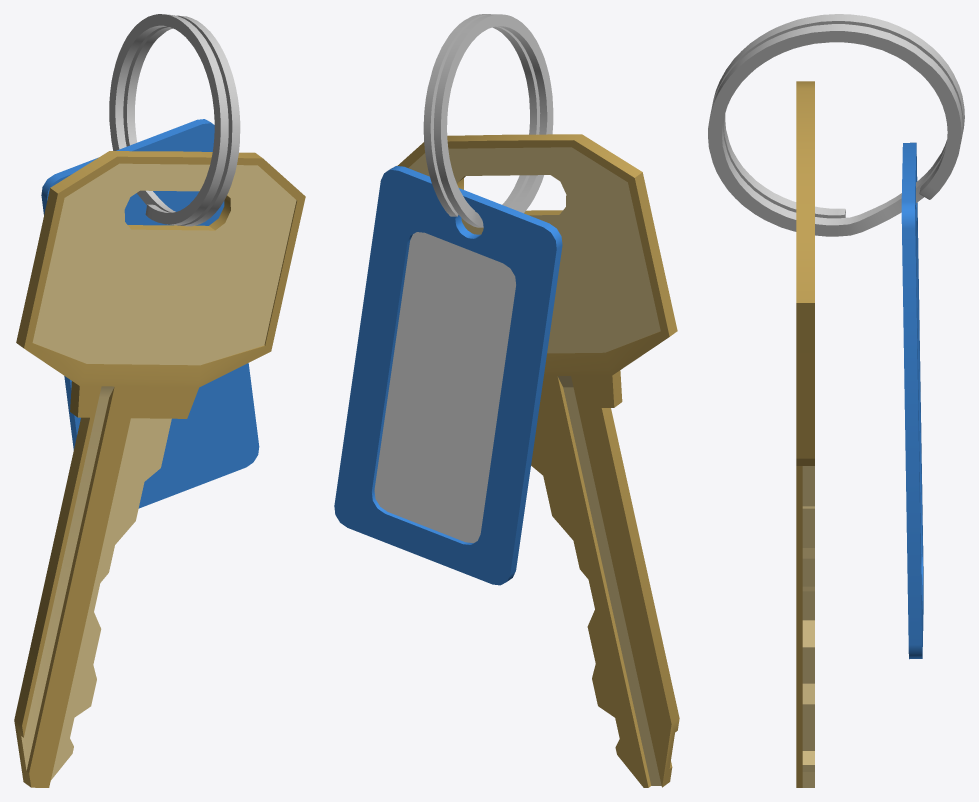
File: Key8_with_tag.fbx
The picture shows the model from 3 angles, left to right: view 1: azimuth 30°, elevation 25°; view 2: azimuth 150°, elevation 25°; view 3: azimuth 270°, elevation 25°; orthographic projection. The views are drawn at different scales.
Parts seen in each view (by area): view 1: Key8_with_tag.001; view 2: Key8_with_tag.001; view 3: Key8_with_tag.001.
Boxes of the visible parts, left/top/right/bottom form: Key8_with_tag.001: left=14, top=14, right=305, bottom=787; Key8_with_tag.001: left=334, top=14, right=679, bottom=787; Key8_with_tag.001: left=708, top=14, right=964, bottom=787.
Size of the model in its own units: 0.489 by 1.18 by 0.3187.
